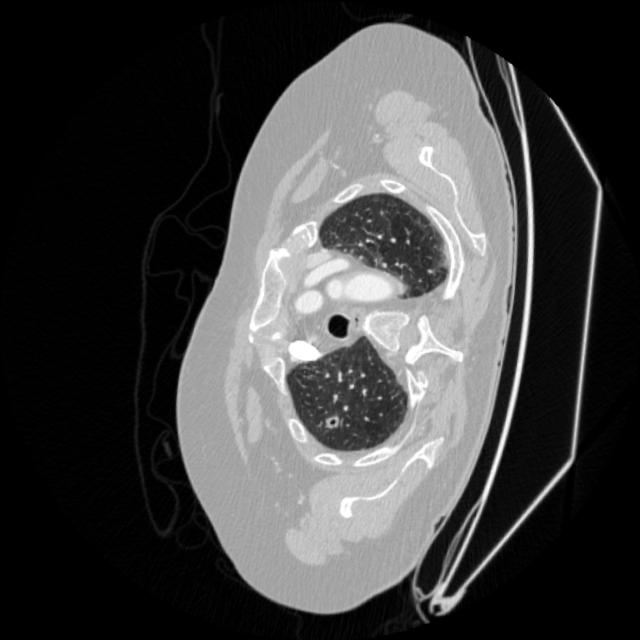nodule: (314, 406, 347, 439)
